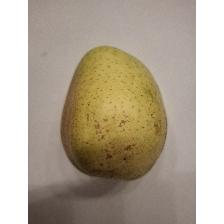Birne: (58, 41, 174, 185)
